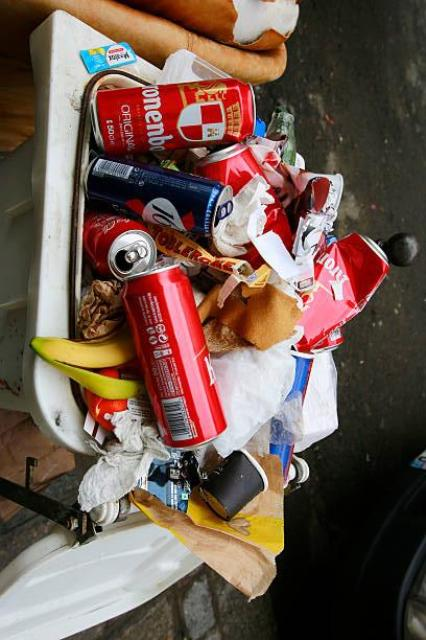Garbage: (31, 50, 419, 598)
Plastic_wraper: (130, 455, 284, 599), (81, 43, 136, 73)
can: (124, 265, 226, 450), (86, 154, 234, 236), (95, 79, 256, 154), (296, 234, 389, 352), (83, 211, 157, 279), (195, 144, 265, 194), (264, 188, 294, 252)
